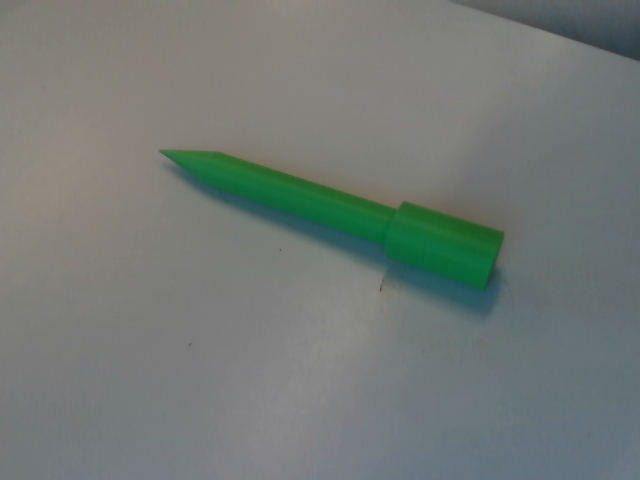Probe: (153, 141, 516, 304)
